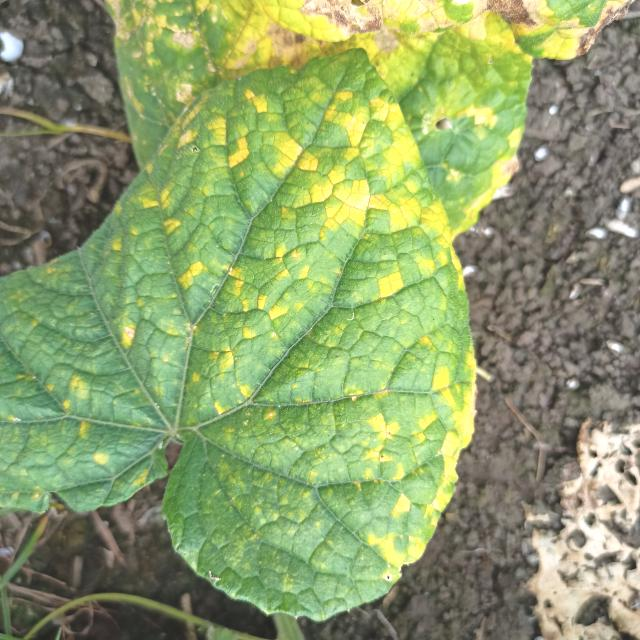disease_cucumber: (0, 69, 472, 600), (97, 0, 549, 171)
